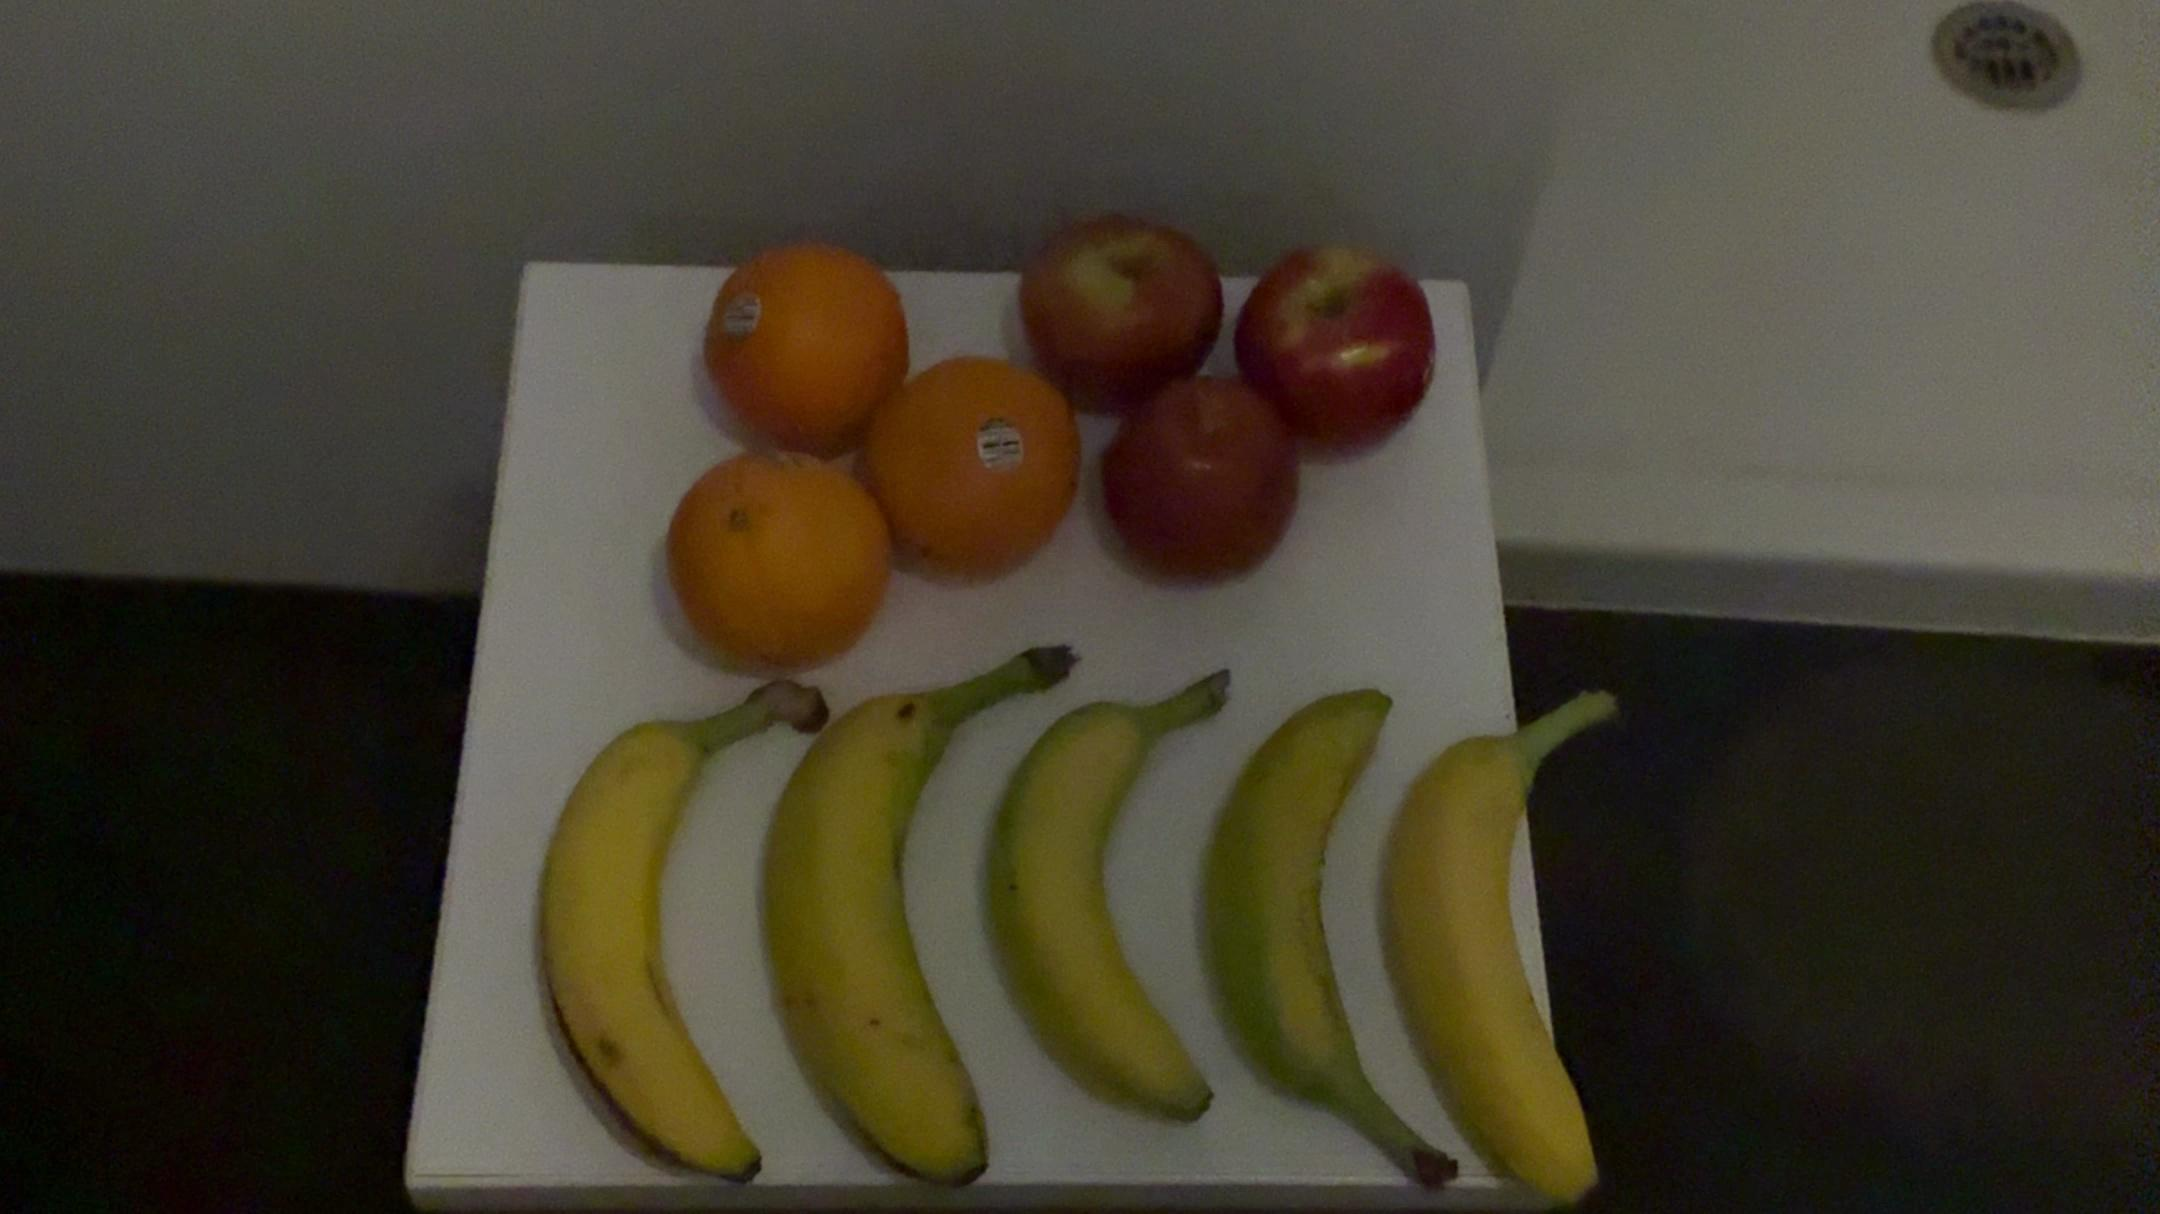apple: (1231, 217, 1449, 473), (1081, 375, 1311, 600), (1010, 194, 1214, 420)
banana: (758, 620, 1071, 1196), (539, 665, 826, 1198), (1200, 675, 1473, 1207), (1374, 666, 1636, 1214), (984, 652, 1240, 1152)
orange: (657, 430, 881, 684), (860, 352, 1071, 600), (697, 234, 912, 466)
